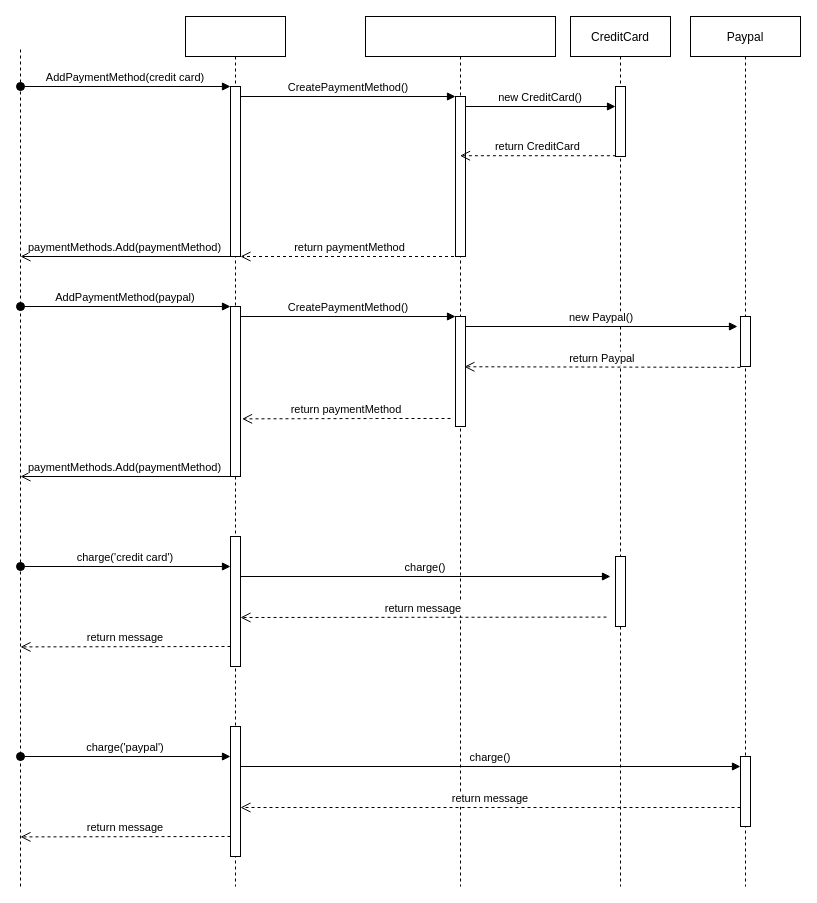
The diagram is 817 pixels wide and 903 high, and some of its shapes have lost their labels. The shapes that lost their labels are listed below. From the top down, each one's box as (x1, y1, x2, y2) in pixels, then its label:
(184, 16, 286, 886): OnlineStore
(364, 16, 556, 886): ConcretPaymentMethodFactory
